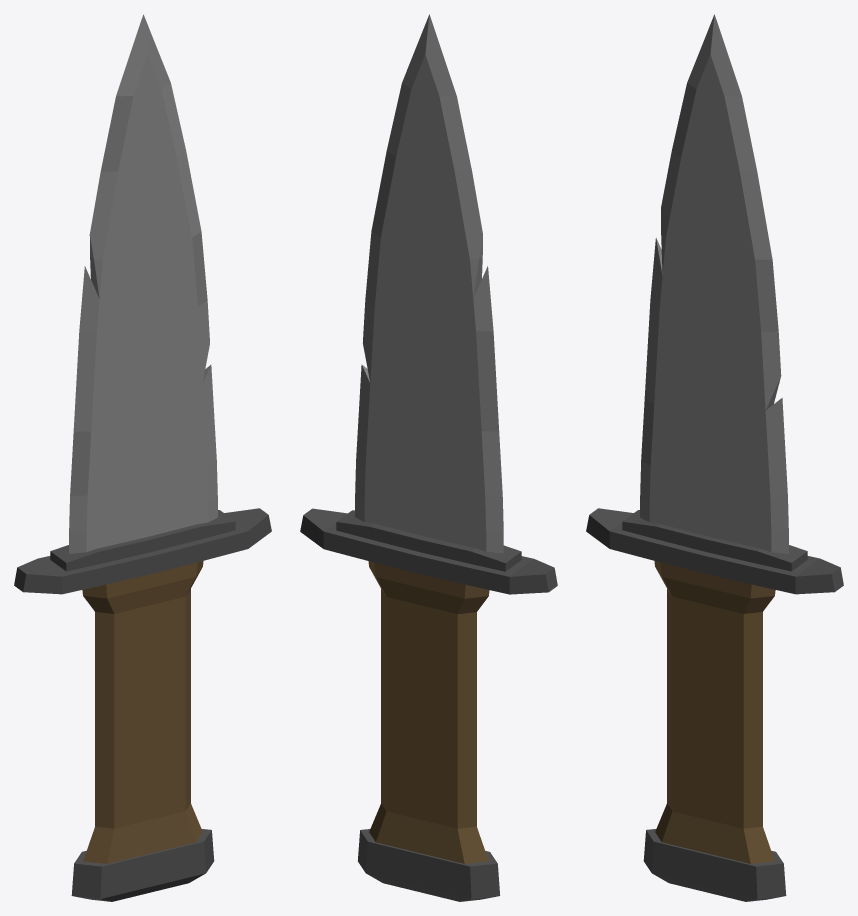
File: Dagger.fbx
3 views of the same model, side by side, from view 1: azimuth 30°, elevation 25°; view 2: azimuth 150°, elevation 25°; view 3: azimuth 330°, elevation 25° (orthographic).
Visible parts, largest first — view 1: Dagger; view 2: Dagger; view 3: Dagger.
Boxes of the visible parts, x1=… form: Dagger: x1=14, y1=14, x2=271, y2=901; Dagger: x1=300, y1=14, x2=557, y2=901; Dagger: x1=586, y1=14, x2=843, y2=901.
Size of the model in its own units: 21.25 by 71.26 by 3.65.
